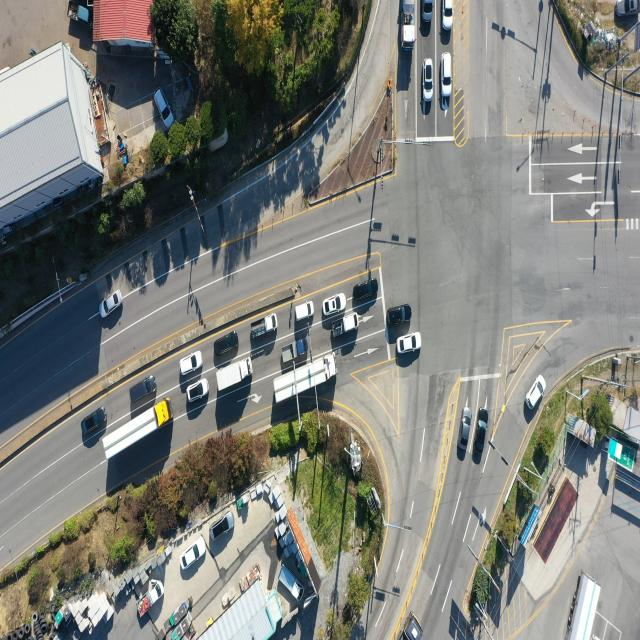car: (155, 89, 175, 130), (80, 409, 104, 442), (183, 536, 206, 570), (473, 410, 487, 464), (130, 374, 156, 402), (526, 374, 546, 410), (212, 515, 235, 544), (101, 291, 122, 321), (214, 333, 238, 357), (386, 305, 412, 327), (442, 53, 454, 100), (185, 379, 208, 403), (354, 278, 378, 301), (459, 407, 471, 453), (180, 351, 202, 375), (422, 60, 434, 104), (396, 334, 421, 355), (615, 0, 640, 18), (324, 294, 346, 314), (294, 302, 315, 322), (443, 0, 454, 30), (422, 0, 434, 21)
medium_truck: (103, 396, 172, 462), (272, 352, 336, 404), (566, 571, 601, 638), (216, 358, 252, 392), (390, 615, 424, 640), (403, 0, 420, 45)
small_truck: (136, 579, 164, 621), (279, 564, 303, 602), (280, 338, 308, 366), (250, 313, 277, 339), (334, 313, 360, 337), (66, 2, 90, 28)
